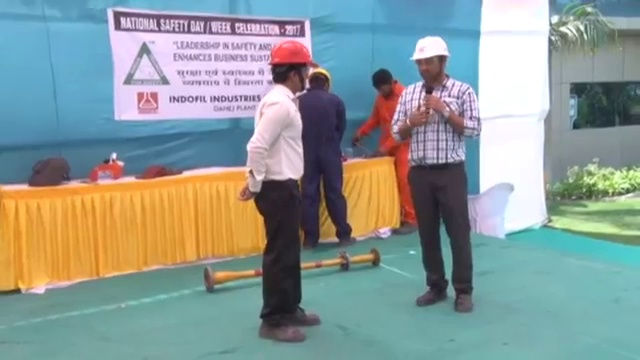helmet: (267, 40, 320, 69), (409, 35, 453, 61), (307, 65, 334, 82)
helmet_off: (370, 67, 398, 102)
helmet_on: (265, 40, 321, 99), (408, 35, 454, 90), (307, 65, 335, 94)
person: (391, 35, 483, 315), (239, 40, 321, 342), (353, 67, 420, 235), (297, 64, 358, 247)
